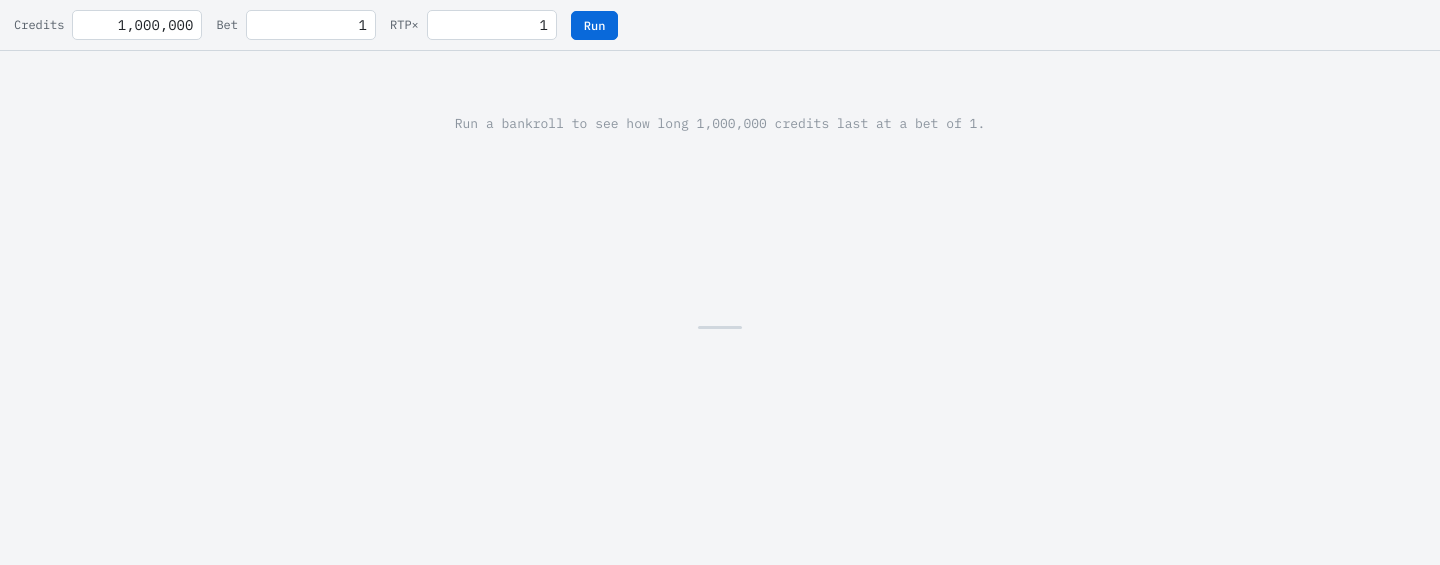
Test: BankrollSim runs › offers Continue only when a chunk capped with credit left
Click the button "Run" at (595, 25), box [571,10,618,40]
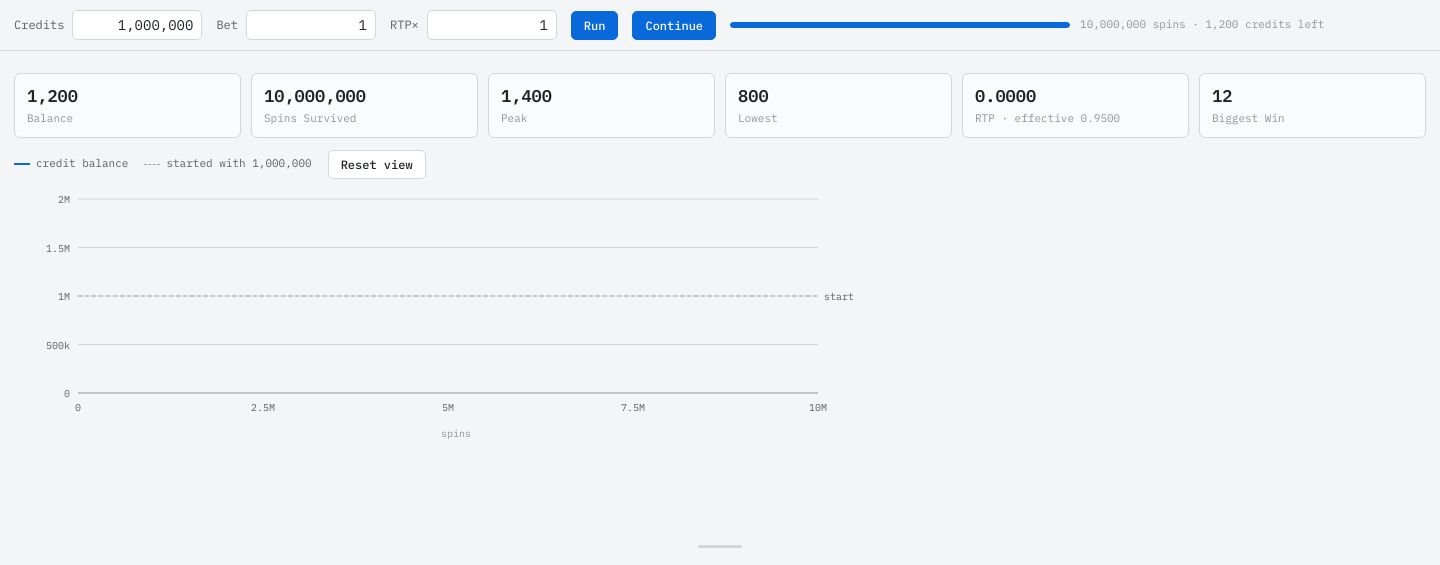
expect the button "Continue" is shown: met
Click the button "Continue" at (674, 25), box [632,10,716,40]
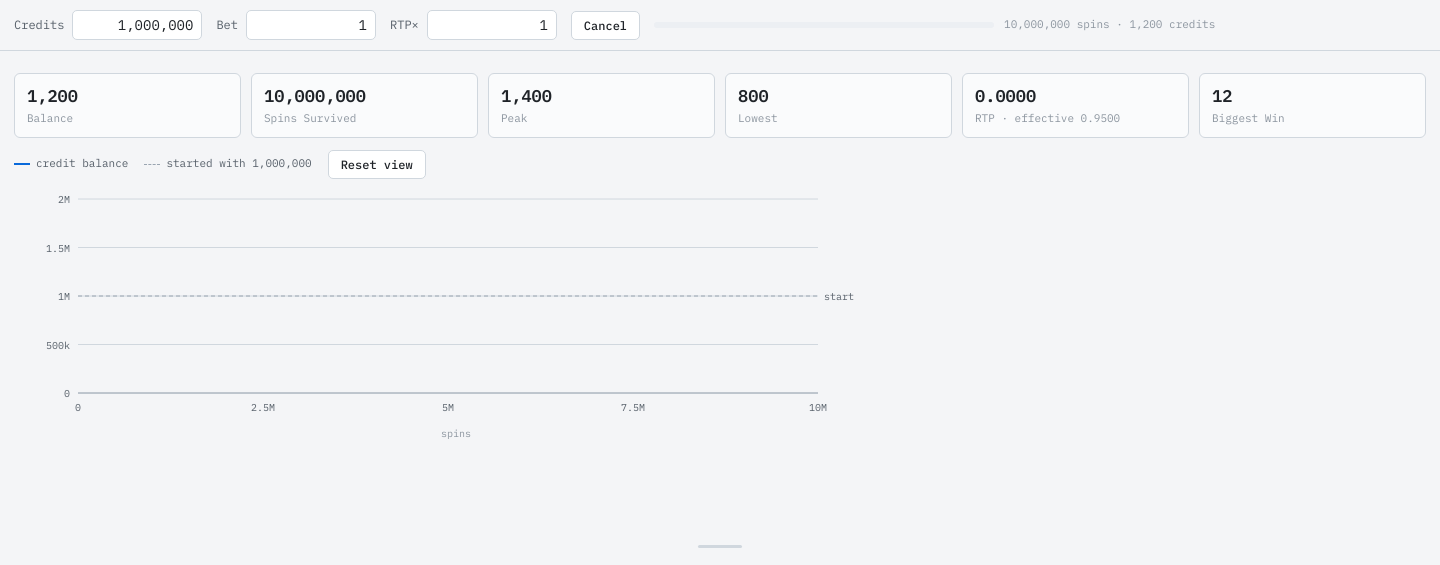
expect the button "Continue" is gone: met
